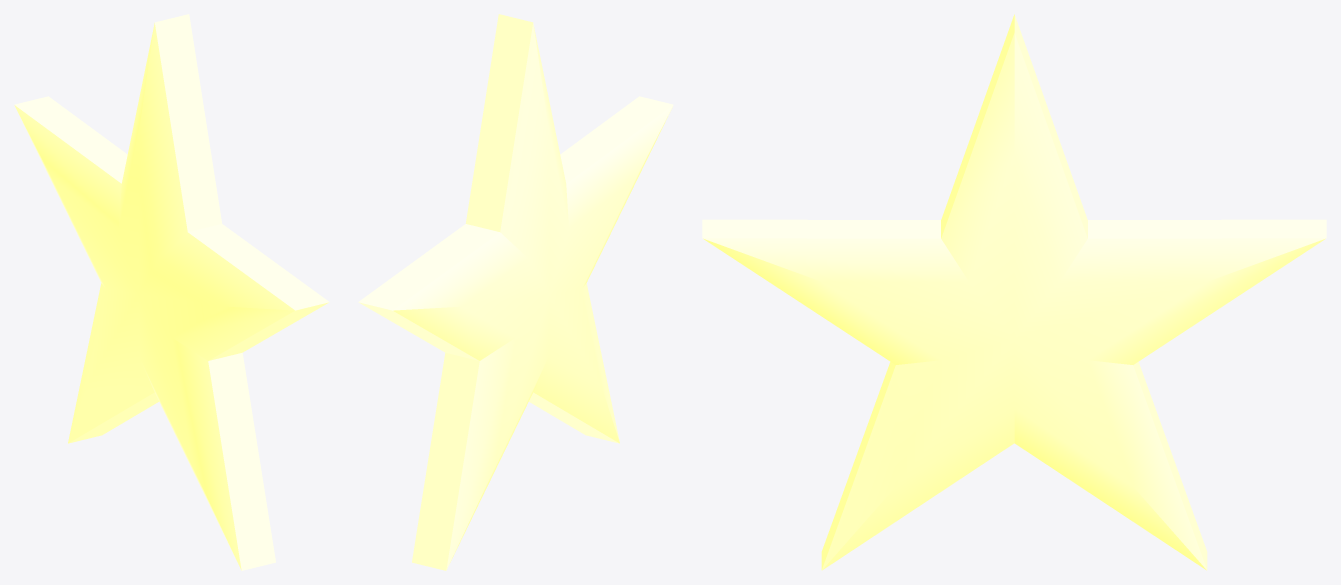
Rendered from Star.fbx.
The picture shows the model from 3 angles, left to right: view 1: azimuth 30°, elevation 25°; view 2: azimuth 150°, elevation 25°; view 3: azimuth 270°, elevation 25°; orthographic projection. The views are drawn at different scales.
Visible parts, largest first — view 1: Star; view 2: Star; view 3: Star.
Boxes of the visible parts, x1,y1,x2,y2 form: Star: [14, 14, 329, 570]; Star: [358, 14, 673, 570]; Star: [702, 14, 1326, 570].
Size of the model in its own units: 14.59 by 101 by 106.
